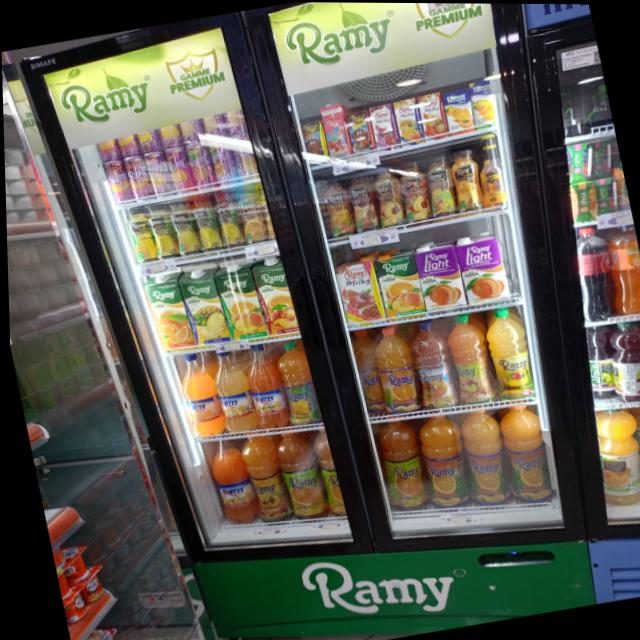ifruit: (585, 408, 640, 508), (601, 318, 640, 402), (581, 324, 615, 399), (565, 180, 600, 223), (623, 401, 640, 476), (590, 175, 621, 216), (561, 143, 593, 181), (586, 139, 615, 177)
ramy_canette: (164, 145, 194, 192), (102, 159, 132, 203), (124, 153, 153, 198), (186, 142, 215, 185), (145, 151, 173, 195), (206, 140, 234, 181), (137, 127, 163, 154), (202, 112, 227, 139), (180, 118, 204, 144), (158, 123, 182, 149), (224, 107, 246, 135), (99, 138, 120, 162), (120, 133, 140, 157)
ramy_carton: (214, 269, 265, 340), (177, 274, 226, 346), (454, 236, 505, 304), (143, 279, 191, 351), (251, 263, 296, 336), (414, 245, 463, 311), (373, 253, 422, 318), (335, 260, 382, 325), (465, 77, 500, 126), (440, 86, 475, 132), (415, 90, 447, 136), (320, 115, 352, 161), (367, 101, 398, 148), (392, 93, 422, 141), (345, 109, 374, 154), (299, 120, 328, 163)
ramy_plastique: (490, 402, 552, 507), (411, 411, 471, 509), (452, 406, 509, 507), (478, 305, 536, 404), (405, 316, 458, 410), (374, 419, 427, 512), (442, 312, 494, 406), (368, 324, 421, 414), (274, 430, 325, 521), (240, 432, 287, 525), (205, 439, 253, 526), (271, 339, 317, 428), (241, 343, 287, 431), (175, 353, 223, 436), (210, 349, 255, 431), (347, 328, 385, 414), (308, 428, 340, 517), (418, 151, 458, 219), (446, 146, 486, 213), (394, 158, 431, 224), (368, 166, 406, 228), (318, 178, 356, 239), (121, 205, 158, 263), (168, 198, 202, 256), (147, 201, 179, 261), (345, 172, 378, 230), (213, 191, 246, 248), (191, 195, 223, 253), (239, 190, 270, 245)
